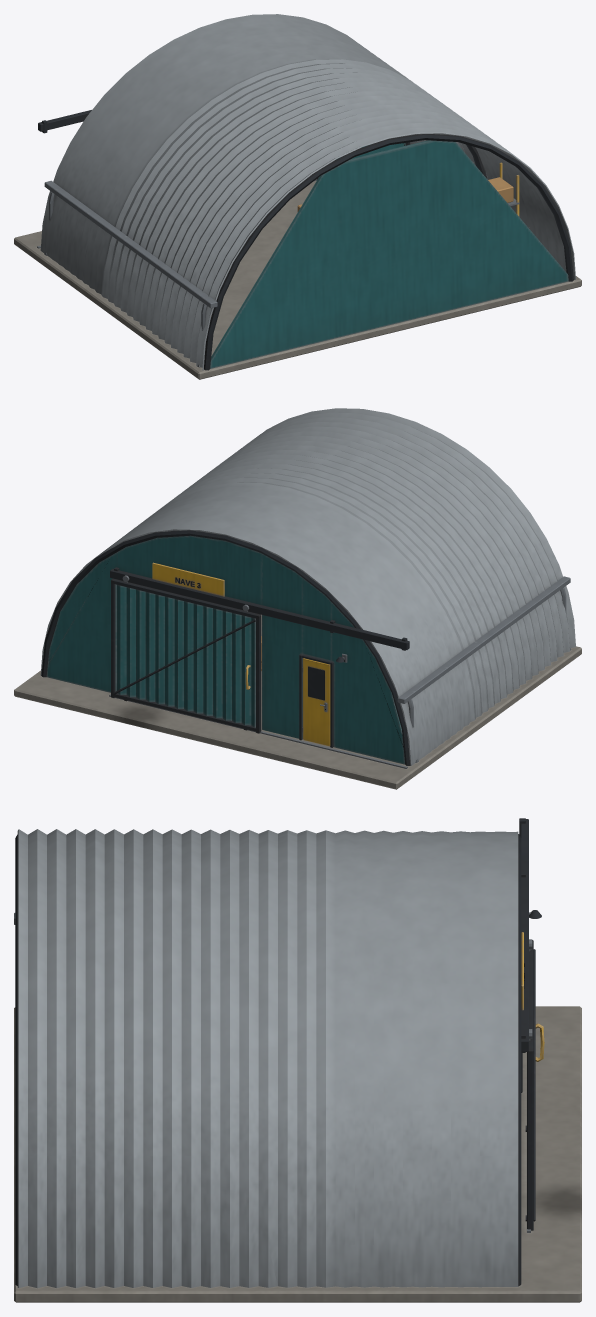
Rendered from almacen_industrial.fbx.
The picture shows the model from 3 angles, top to bottom: view 1: azimuth 30°, elevation 25°; view 2: azimuth 150°, elevation 25°; view 3: azimuth 270°, elevation 25°; orthographic projection. The views are drawn at different scales.
Visible parts, largest first — view 1: almacen_industrial; view 2: almacen_industrial, almacen_industrial_puerta, almacen_industrial_puerta_peatonal; view 3: almacen_industrial, almacen_industrial_puerta.
Boxes of the visible parts, x1,y1,x2,y2 form: almacen_industrial: (14, 14, 581, 379); almacen_industrial: (14, 408, 581, 789); almacen_industrial_puerta: (111, 575, 261, 733); almacen_industrial_puerta_peatonal: (302, 658, 330, 746); almacen_industrial: (14, 818, 581, 1302); almacen_industrial_puerta: (525, 939, 544, 1230).
Bounding box in the file's own units: 16 × 7.79 × 13.4.
2 materials, 1 textured.
